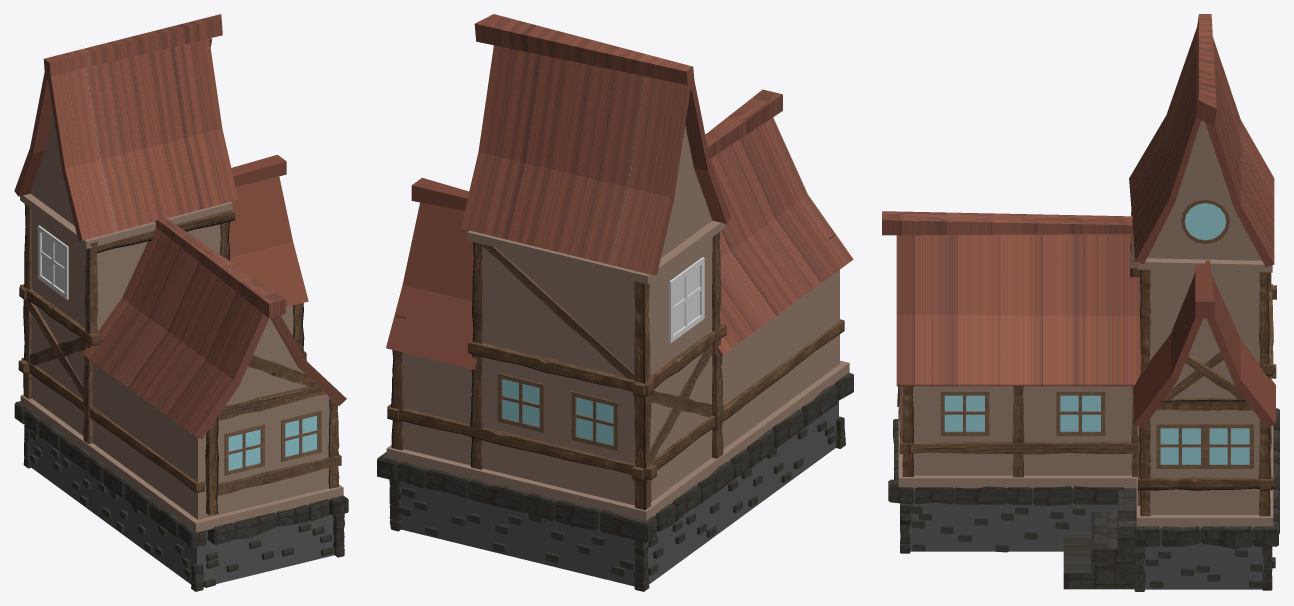
Rendered from House2Fix.fbx.
3 renders of one model, left to right at view 1: azimuth 30°, elevation 25°; view 2: azimuth 150°, elevation 25°; view 3: azimuth 270°, elevation 25°, orthographic. The views are drawn at different scales.
Visible parts, largest first — view 1: Plane.001, Plane, Cube.027, Cube.061, Cube.020, Cube.014, Cube.018, Cube.015, Cube.009, Cube.022, Cube.011, Plane.020 (+12 smaller); view 2: Plane.001, Plane, Cube.027, Cube.061, Cube.017, Cube.018, Cube.020, Cube.019, Cube.028, Plane.020, Cube.023, Plane.019 (+11 smaller); view 3: Plane.001, Plane, Cube.027, Cube.016, Cube.010, Cube.061, Cube.012, Plane.006, Plane.022, Plane.023, Plane.004, Circle.001 (+14 smaller).
Part boxes in pixels (left/top/right/bottom): Plane.001: left=14, top=14, right=346, bottom=439; Plane: left=20, top=111, right=343, bottom=586; Cube.027: left=14, top=401, right=348, bottom=591; Cube.061: left=29, top=430, right=332, bottom=587; Cube.020: left=21, top=357, right=204, bottom=493; Cube.014: left=217, top=454, right=341, bottom=495; Cube.018: left=23, top=204, right=32, bottom=399; Cube.015: left=204, top=385, right=325, bottom=420; Cube.009: left=205, top=416, right=218, bottom=515; Cube.022: left=84, top=241, right=98, bottom=349; Cube.011: left=97, top=209, right=235, bottom=253; Plane.020: left=38, top=225, right=68, bottom=299; Plane.001: left=386, top=14, right=853, bottom=369; Plane: left=386, top=126, right=849, bottom=586; Cube.027: left=377, top=373, right=853, bottom=591; Cube.061: left=398, top=420, right=837, bottom=576; Cube.017: left=387, top=404, right=656, bottom=480; Cube.018: left=634, top=281, right=651, bottom=510; Cube.020: left=631, top=319, right=844, bottom=481; Cube.019: left=468, top=339, right=653, bottom=396; Cube.028: left=479, top=243, right=634, bottom=379; Plane.020: left=669, top=257, right=704, bottom=342; Cube.023: left=633, top=323, right=726, bottom=396; Plane.019: left=576, top=397, right=613, bottom=445; Plane.001: left=882, top=14, right=1275, bottom=427; Plane: left=898, top=120, right=1273, bottom=589; Cube.027: left=888, top=408, right=1279, bottom=591; Cube.016: left=1063, top=489, right=1136, bottom=589; Cube.010: left=900, top=439, right=1137, bottom=454; Cube.061: left=909, top=505, right=1275, bottom=588; Cube.012: left=1137, top=475, right=1273, bottom=490; Plane.006: left=1060, top=395, right=1100, bottom=431; Plane.022: left=1160, top=428, right=1200, bottom=464; Plane.023: left=1209, top=428, right=1249, bottom=464; Plane.004: left=944, top=395, right=984, bottom=431; Circle.001: left=1184, top=203, right=1226, bottom=239.
Size of the model in its own units: 1197 by 2091 by 1629.
Materials: 8 (4 with a texture image).
